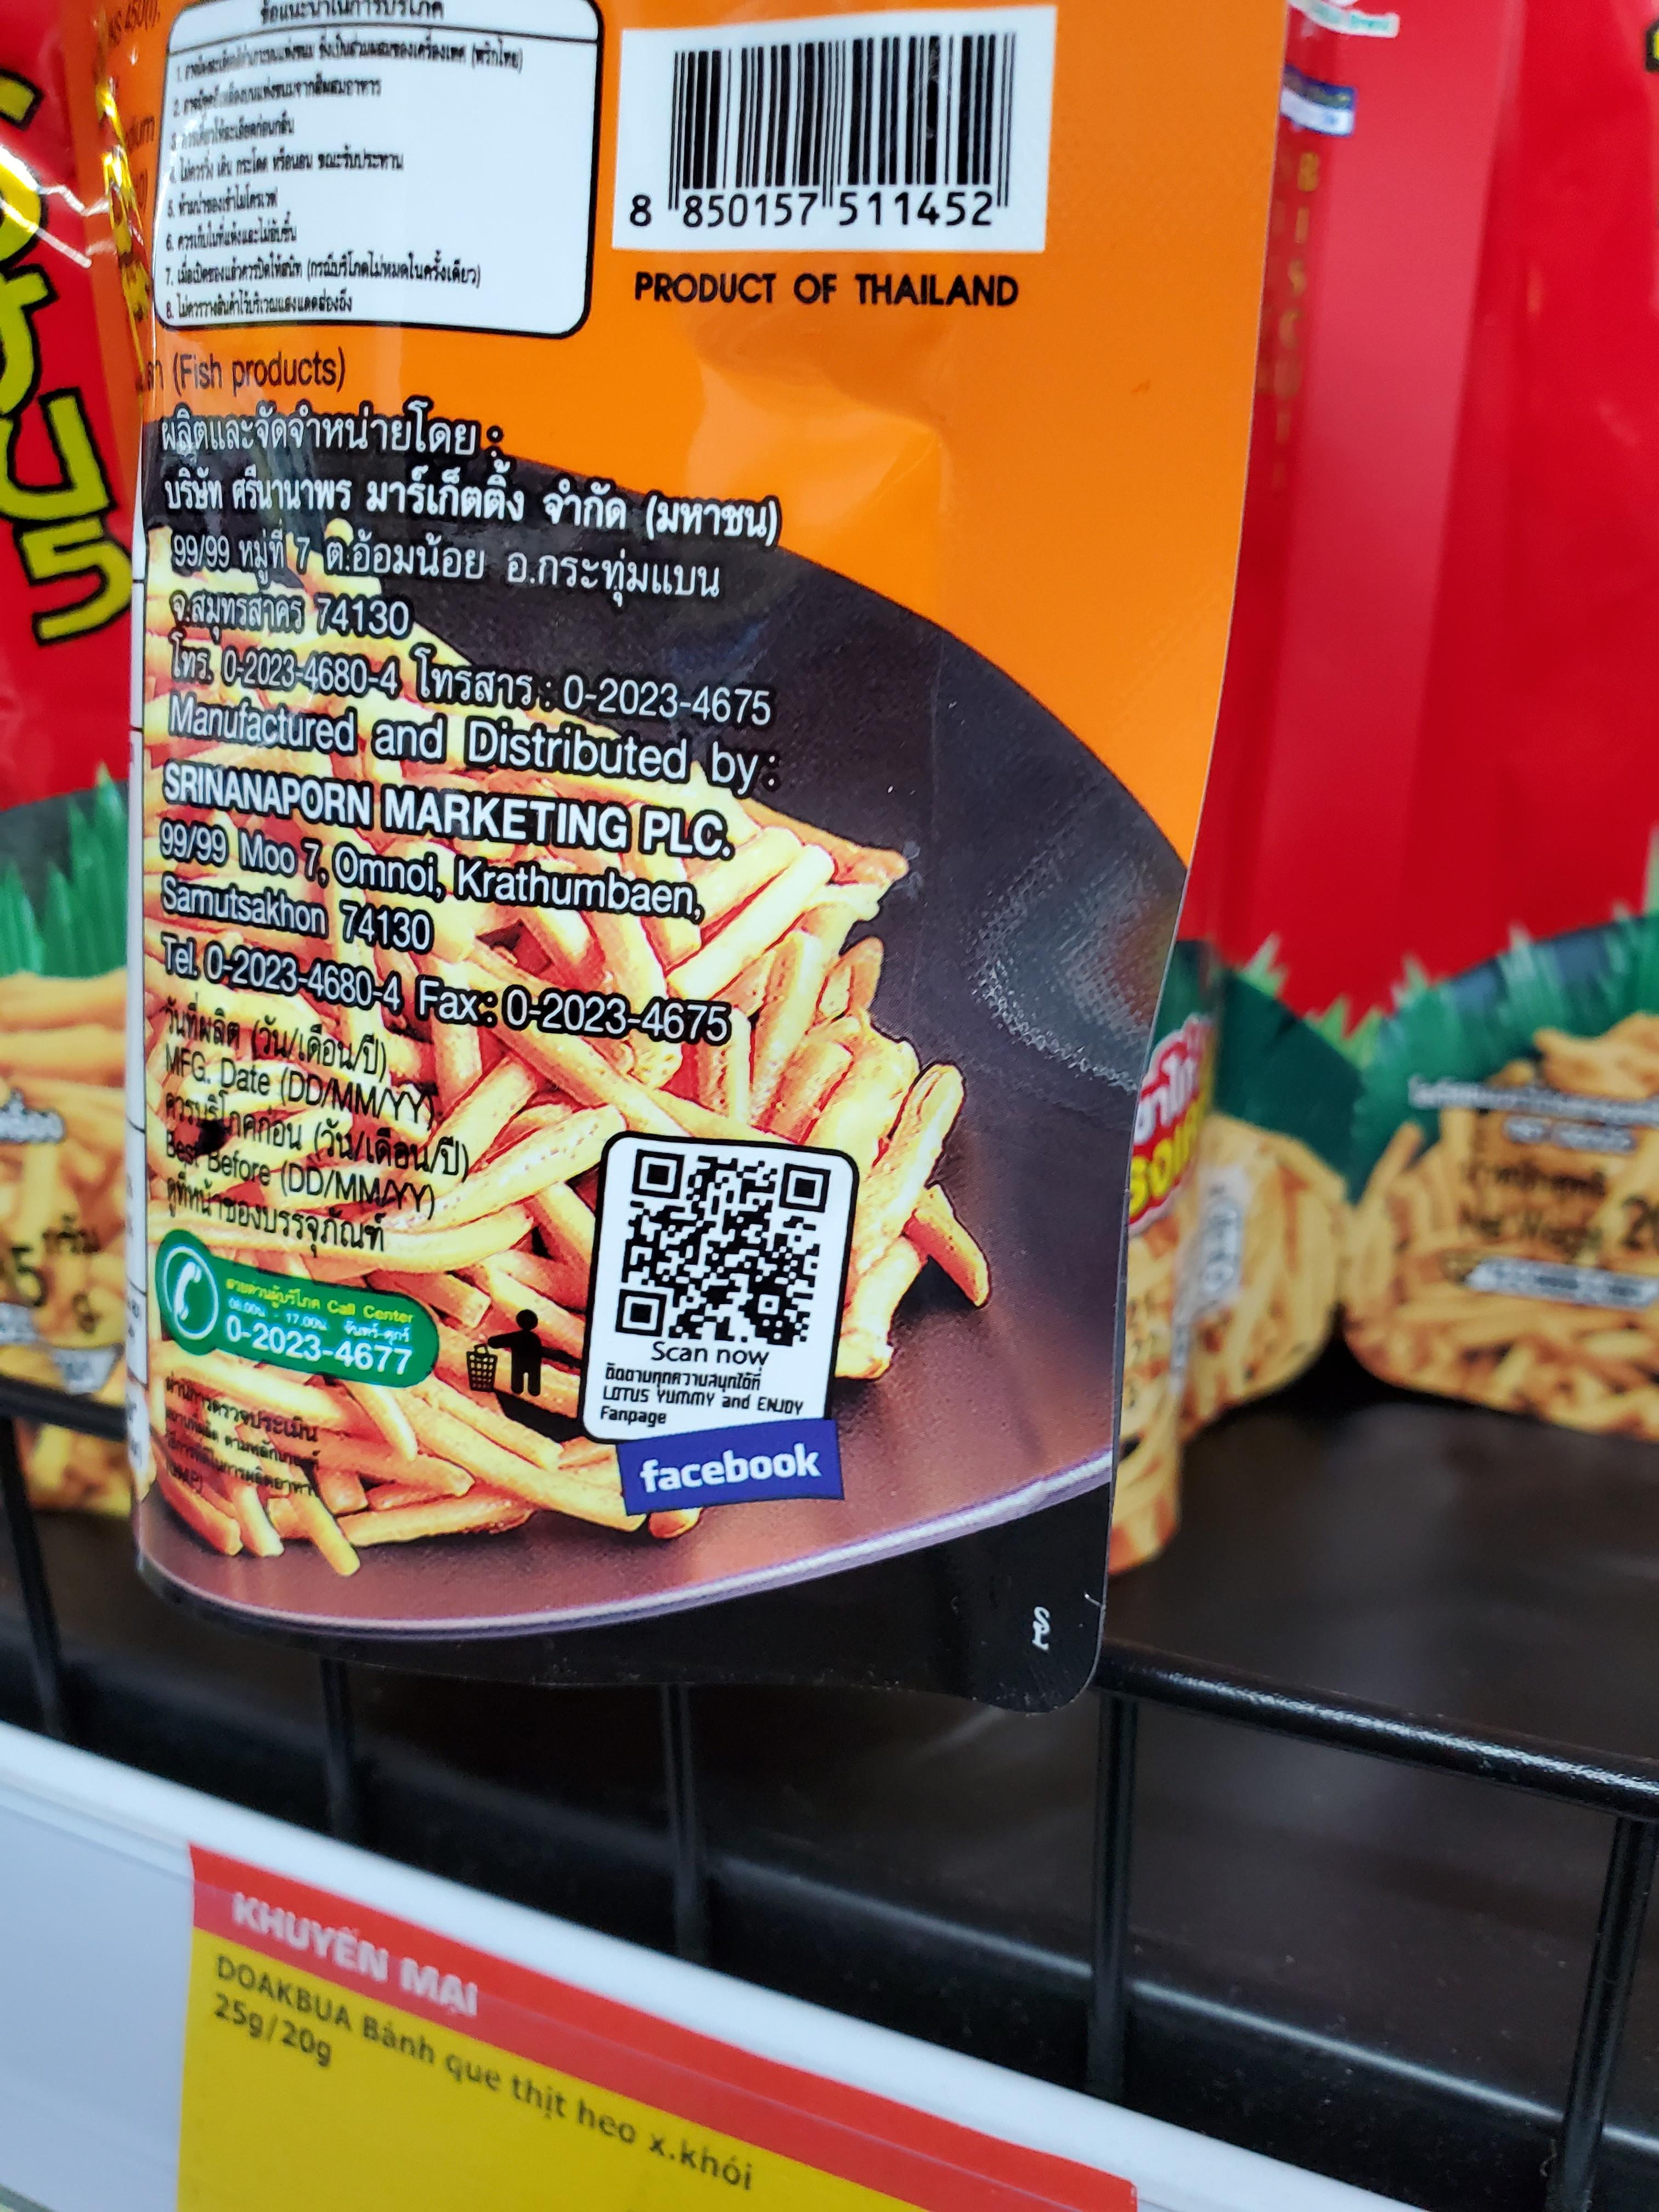barcode: (615, 23, 1042, 258)
qr code: (587, 1127, 840, 1364)
